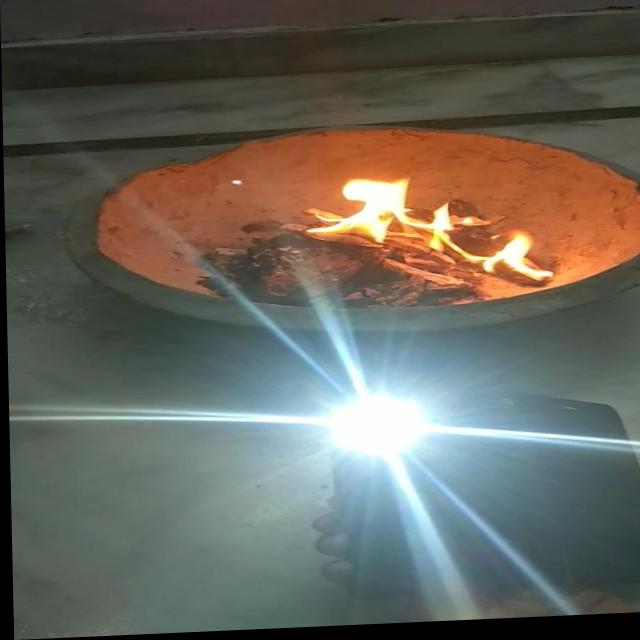fire: (298, 169, 461, 257), (469, 226, 562, 294)
